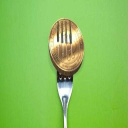Fork: (36, 11, 89, 128)
